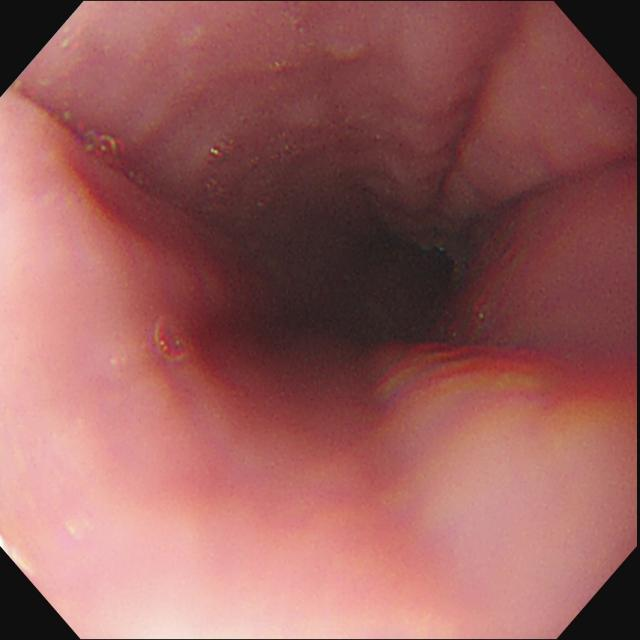E: (337, 243, 452, 338)
